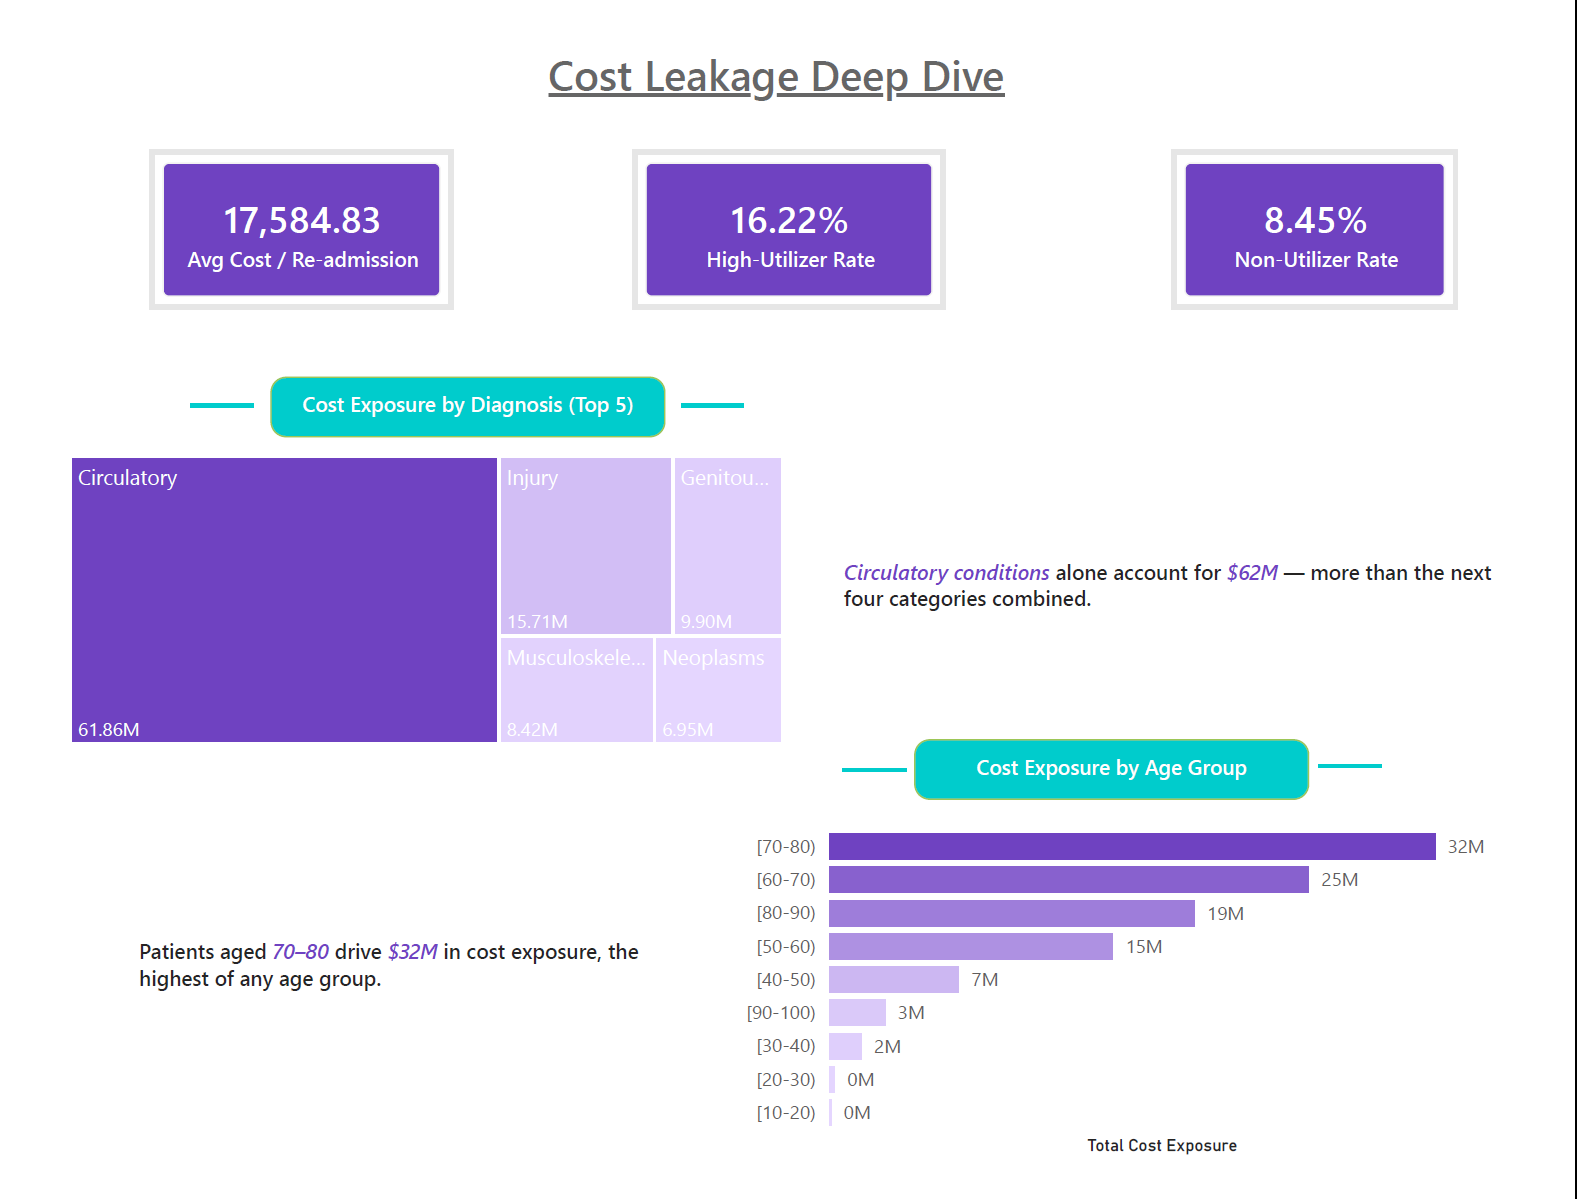

The dashboard page shown, as its layout file describes it:
{"tool":"powerbi","page":{"name":"Cost Leakage","canvas":[960,720],"ordinal":1},"visuals":[{"type":"textbox","box":[322,0,316,53],"z":0},{"type":"treemap","fields":{"Group":["powerbi_data_export.diagnosis_category"],"Values":["powerbi_data_export.Total Cost Exposure"]},"box":[16.2,262.9,465.3,193.7],"z":1000},{"type":"barChart","fields":{"Y":["powerbi_data_export.Total Cost Exposure"],"Category":["powerbi_data_export.age"]},"box":[442.6,488,495.6,231.6],"z":2000},{"type":"cardVisual","fields":{"Data":["powerbi_data_export.Avg Cost per Readmission"]},"box":[72.5,72.5,193.7,101.7],"z":3000},{"type":"cardVisual","fields":{"Data":["powerbi_data_export.High-Utilizer Readmit Rate"]},"box":[380.9,72.5,200.2,101.7],"z":4000},{"type":"cardVisual","fields":{"Data":["powerbi_data_export.Non High-Utilizer Readmit Rate"]},"box":[726.1,72.5,182.9,101.7],"z":5000},{"type":"textbox","box":[149.1,216.6,253.4,38.9],"z":6000},{"type":"shape","box":[412.1,148.5,40,174.2],"z":7000},{"type":"shape","box":[98.3,148.5,40,174.2],"z":8000},{"type":"textbox","box":[560.5,449.3,253.4,38.9],"z":9000},{"type":"shape","box":[820.2,378.9,40,174.2],"z":10000},{"type":"shape","box":[515.5,381.5,40,174.2],"z":11000},{"type":"textbox","box":[511,328,432.1,64.1],"z":12000},{"type":"textbox","box":[59.5,571.3,372.2,63.8],"z":13000}]}

Visuals, with their boxes in screenshot pixels (x1, y1, x2, y2), scaled from the page's 960x720 canvas onto the 1577x1199 screenshot:
textbox: <region>529, 0, 1048, 88</region>
treemap - powerbi_data_export.diagnosis_category x powerbi_data_export.Total Cost Exposure: <region>27, 438, 791, 760</region>
barChart - powerbi_data_export.Total Cost Exposure x powerbi_data_export.age: <region>727, 813, 1541, 1198</region>
cardVisual - powerbi_data_export.Avg Cost per Readmission: <region>119, 121, 437, 290</region>
cardVisual - powerbi_data_export.High-Utilizer Readmit Rate: <region>626, 121, 955, 290</region>
cardVisual - powerbi_data_export.Non High-Utilizer Readmit Rate: <region>1193, 121, 1493, 290</region>
textbox: <region>245, 361, 661, 425</region>
shape: <region>677, 247, 743, 537</region>
shape: <region>161, 247, 227, 537</region>
textbox: <region>921, 748, 1337, 813</region>
shape: <region>1347, 631, 1413, 921</region>
shape: <region>847, 635, 913, 925</region>
textbox: <region>839, 546, 1549, 653</region>
textbox: <region>98, 951, 709, 1058</region>
